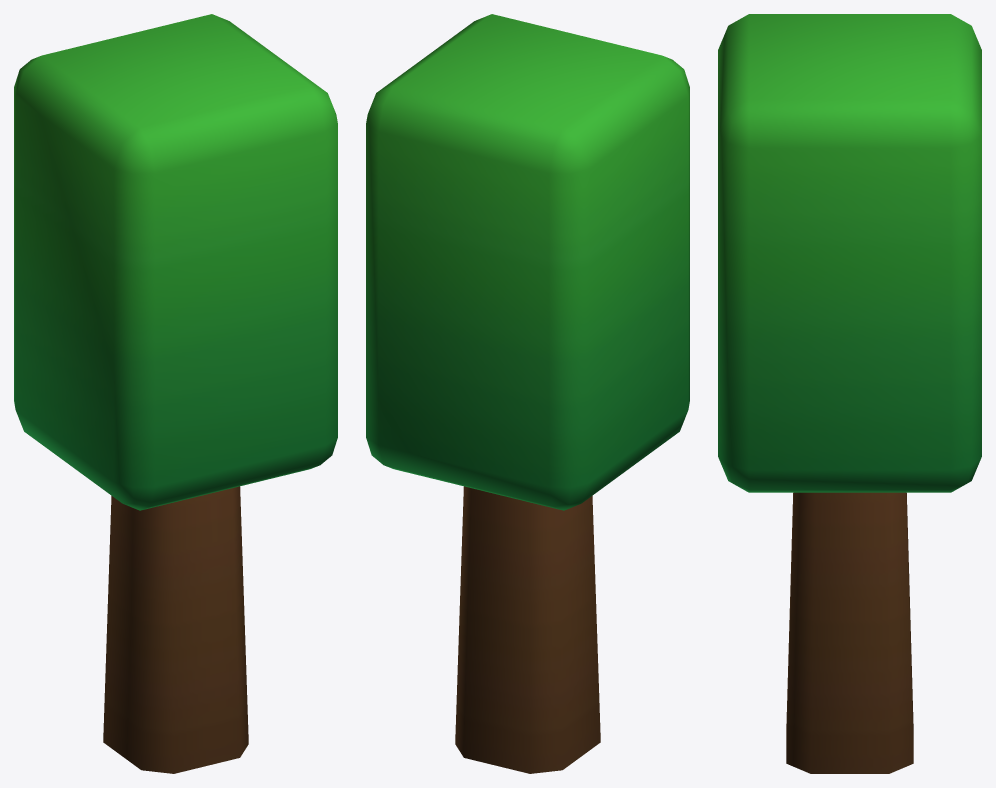
The model's file is Tree_D_3_.fbx.
The picture shows the model from 3 angles, left to right: view 1: azimuth 30°, elevation 25°; view 2: azimuth 150°, elevation 25°; view 3: azimuth 270°, elevation 25°; orthographic projection. The views are drawn at different scales.
Parts seen in each view (by area): view 1: Tree_D_3; view 2: Tree_D_3; view 3: Tree_D_3.
Part boxes in pixels (x1=…): Tree_D_3: x1=14, y1=14, x2=337, y2=773; Tree_D_3: x1=366, y1=14, x2=689, y2=773; Tree_D_3: x1=718, y1=14, x2=981, y2=773.
Bounding box in the file's own units: 121 × 348 × 121.
